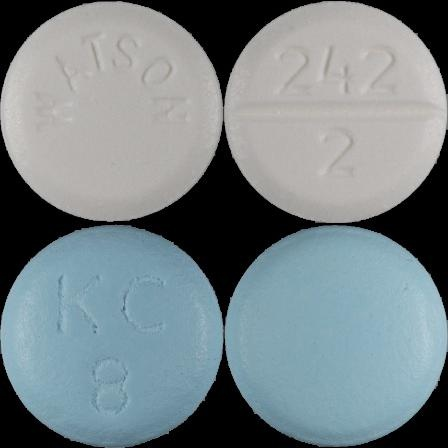67544-142: (0, 0, 224, 224)
